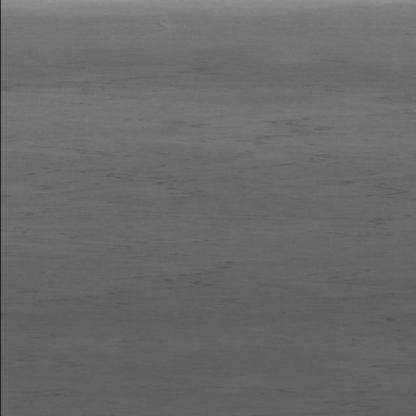silk_spot: (57, 100, 386, 319)
